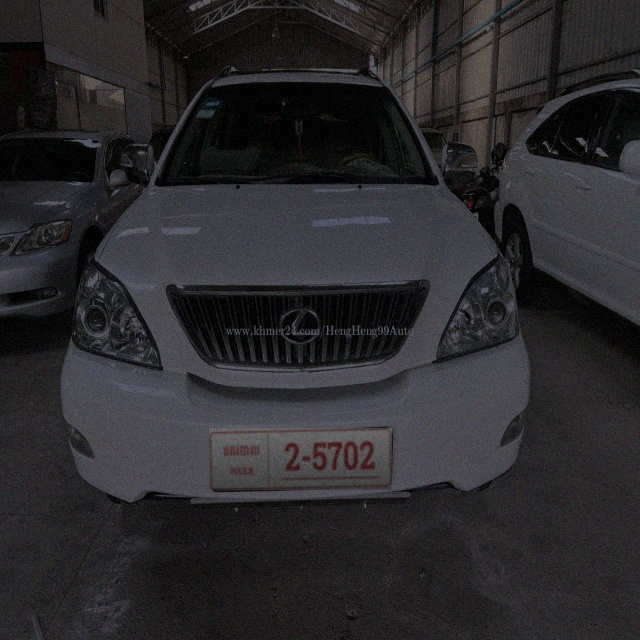Plate Number: (209, 428, 393, 491)
